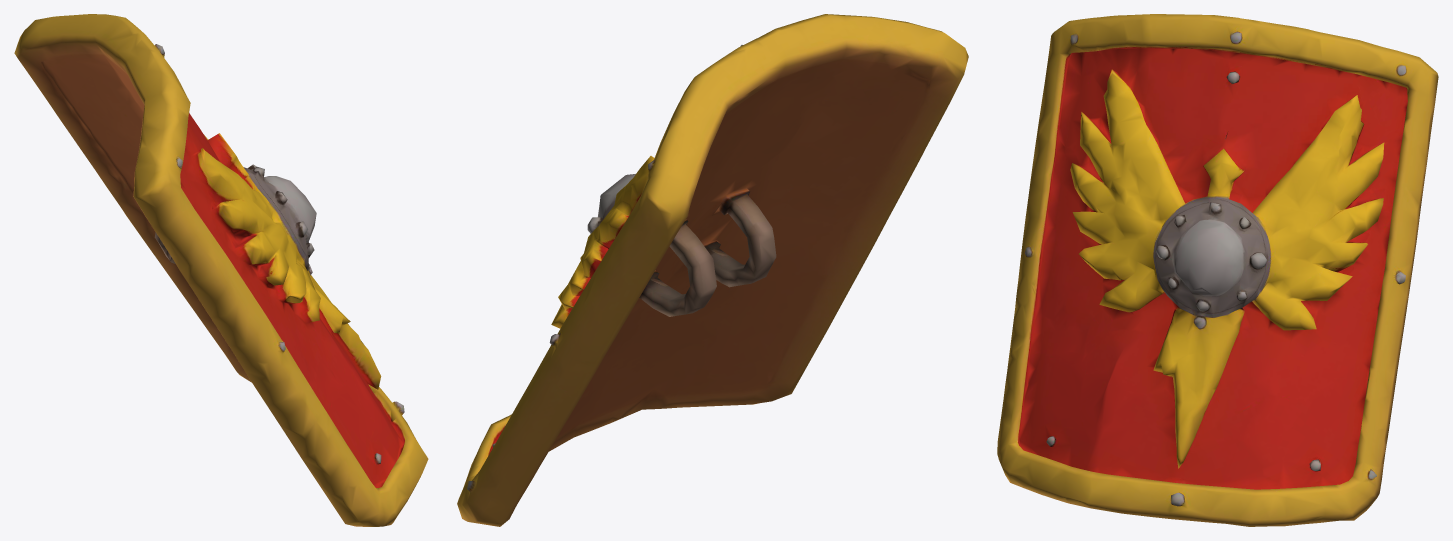
Rendered from shield.glb.
3 renders of one model, left to right at view 1: azimuth 30°, elevation 25°; view 2: azimuth 150°, elevation 25°; view 3: azimuth 270°, elevation 25°, orthographic. The views are drawn at different scales.
Parts seen in each view (by area): view 1: tripo_node_6a8404e2-0967-4e44-946d-678cf17d1b21; view 2: tripo_node_6a8404e2-0967-4e44-946d-678cf17d1b21; view 3: tripo_node_6a8404e2-0967-4e44-946d-678cf17d1b21.
Part boxes in pixels (left/top/right/bottom): tripo_node_6a8404e2-0967-4e44-946d-678cf17d1b21: left=14, top=14, right=428, bottom=526; tripo_node_6a8404e2-0967-4e44-946d-678cf17d1b21: left=457, top=14, right=968, bottom=526; tripo_node_6a8404e2-0967-4e44-946d-678cf17d1b21: left=997, top=14, right=1438, bottom=526.
Bounding box in the file's own units: 0.8078 × 1 × 0.9683.
Materials: 1 (1 with a texture image).
